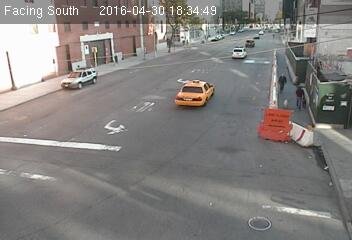neg: (229, 96, 258, 135), (200, 33, 222, 62), (184, 73, 203, 99), (229, 36, 244, 56), (107, 49, 122, 68), (79, 58, 93, 77), (58, 69, 68, 83)
pos: (291, 85, 311, 112), (274, 72, 291, 95), (271, 32, 278, 41)
